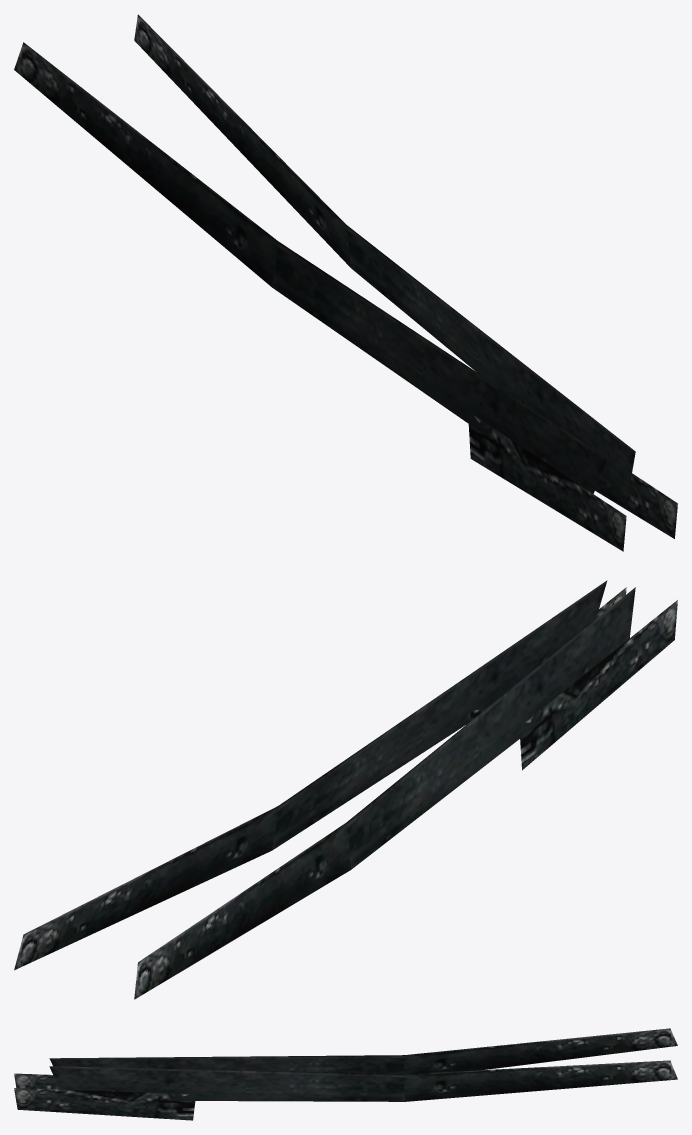
Rendered from wp_carbine_e11_stock_closed_l2.fbx.
3 views of the same model, one above another, from view 1: azimuth 30°, elevation 25°; view 2: azimuth 150°, elevation 25°; view 3: azimuth 270°, elevation 25° (orthographic). The views are drawn at different scales.
Visible parts, largest first — view 1: mesh_node; view 2: mesh_node; view 3: mesh_node.
Part boxes in pixels (bbox=[...]): mesh_node: bbox=[14, 14, 677, 551]; mesh_node: bbox=[14, 580, 677, 999]; mesh_node: bbox=[14, 1028, 677, 1120].
Size of the model in its own units: 0.0431 by 0.0412 by 0.3593.
Materials: 1 (1 with a texture image).
